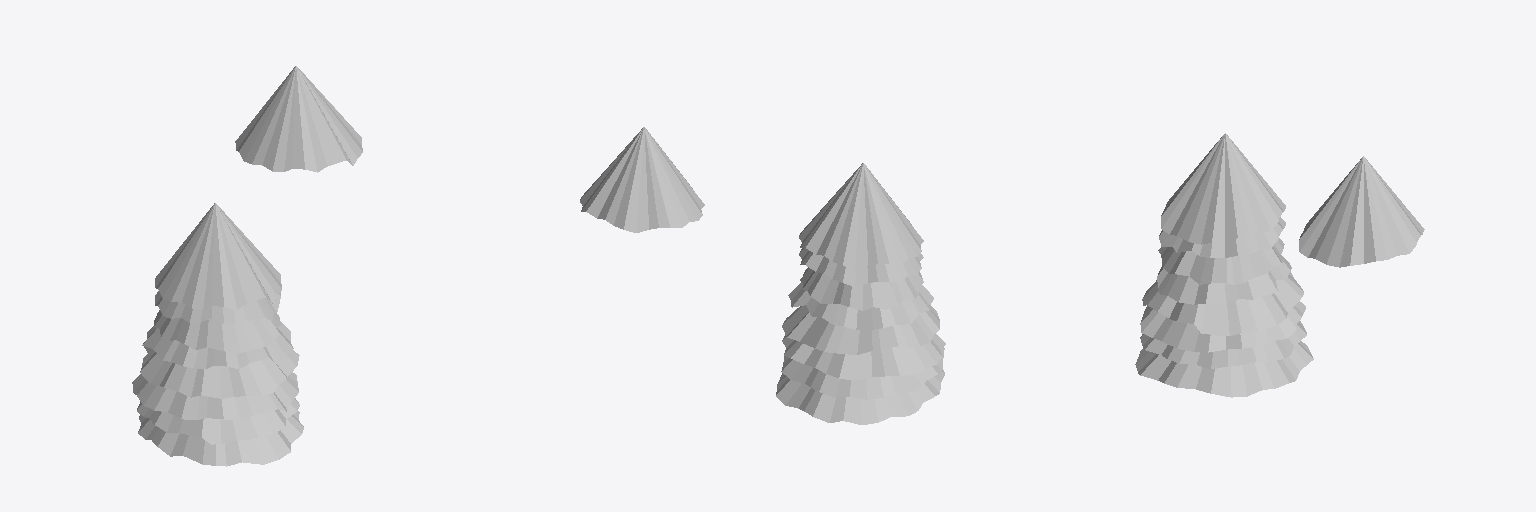
The model's file is tree_v1.obj.
3 renders of one model, left to right at view 1: azimuth 30°, elevation 25°; view 2: azimuth 150°, elevation 25°; view 3: azimuth 270°, elevation 25°, orthographic.
Visible parts, largest first — view 1: Cube; view 2: Cube; view 3: Cube.
Boxes of the visible parts, <box> form: Cube: <box>132,66,362,466</box>; Cube: <box>580,127,945,424</box>; Cube: <box>1135,133,1424,397</box>.
Size of the model in its own units: 7.49 by 7.14 by 6.67.